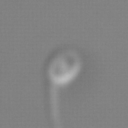normal: (41, 83, 77, 128)
